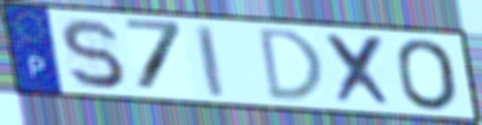7: (121, 16, 187, 97)
D: (257, 26, 327, 103)
I: (192, 22, 228, 100)
O: (392, 36, 463, 113)
S: (57, 16, 128, 91)
X: (322, 31, 398, 110)
